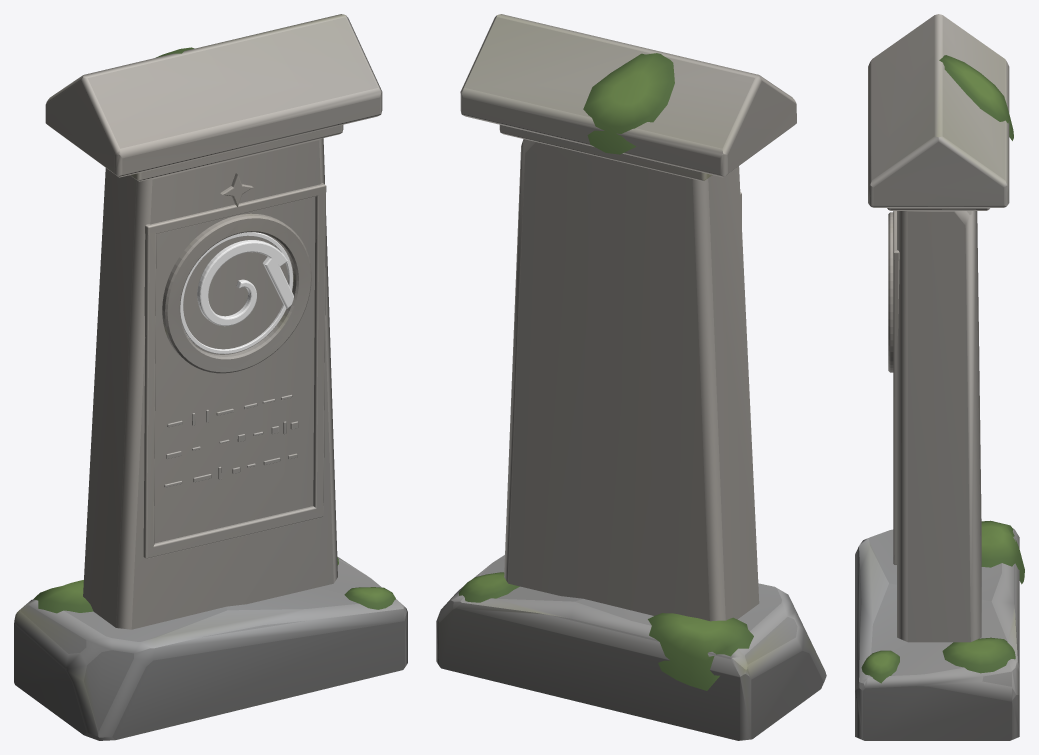
The model's file is stele_wind.glb.
The picture shows the model from 3 angles, left to right: view 1: azimuth 30°, elevation 25°; view 2: azimuth 150°, elevation 25°; view 3: azimuth 270°, elevation 25°; orthographic projection. The views are drawn at different scales.
Parts seen in each view (by area): view 1: stele_wind_LOD0; view 2: stele_wind_LOD0; view 3: stele_wind_LOD0.
Boxes of the visible parts, x1,y1,x2,y2 form: stele_wind_LOD0: (14, 14, 407, 740); stele_wind_LOD0: (436, 14, 826, 740); stele_wind_LOD0: (855, 14, 1024, 740).
Size of what is drawn, in the model's own units: 1.32 by 2.52 by 0.6501.
